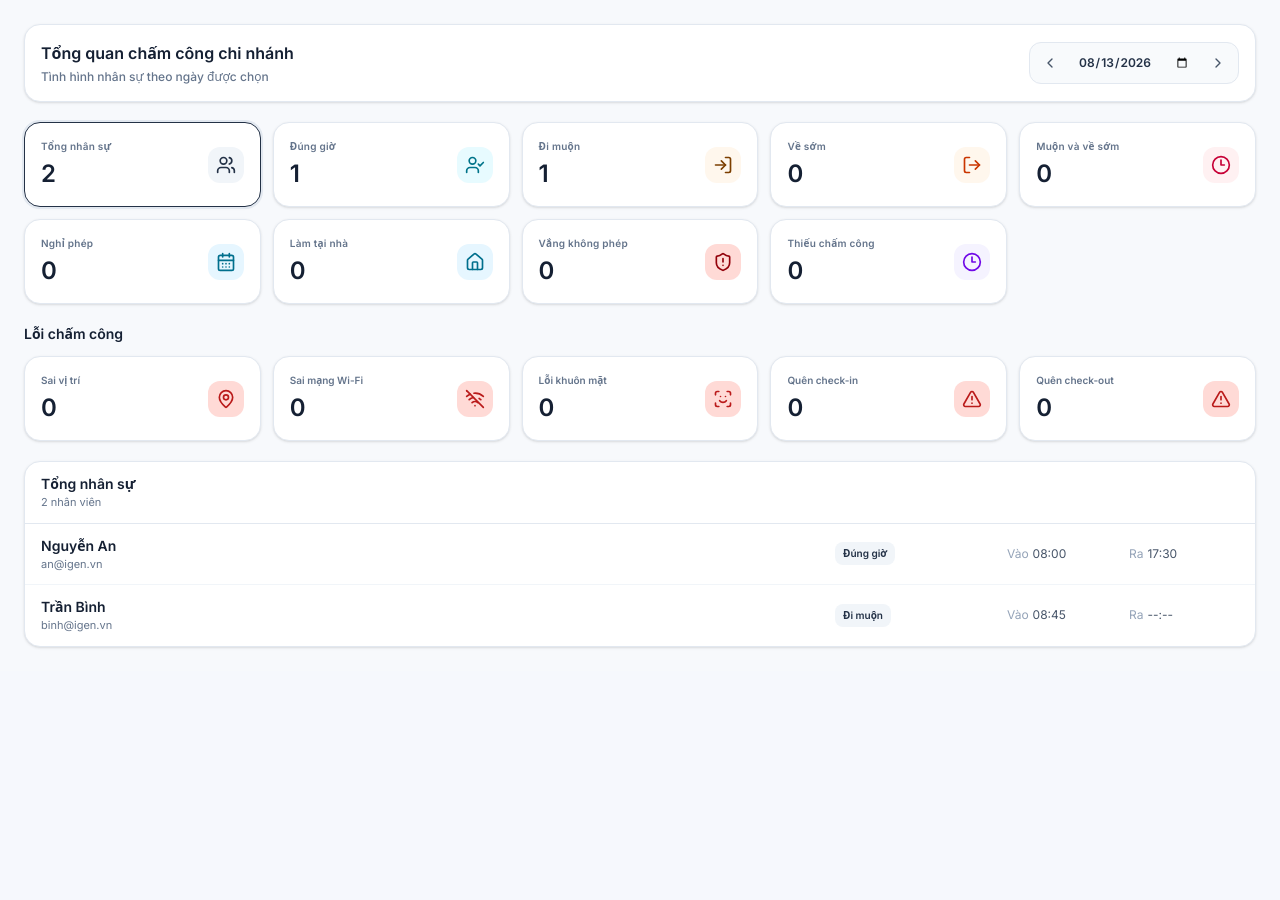
AttendanceDailyOverview › shows daily metrics and filters employees by clicking a metric
Expected: the date field named "Ngày tổng quan" holds "2026-08-13", [1070,51,1198,75]
Expected: the text "Nguyễn An" is shown, [41,536,116,554]
Click the button with aria-label "Đi muộn: 1" at (640, 164), box [522,122,758,207]
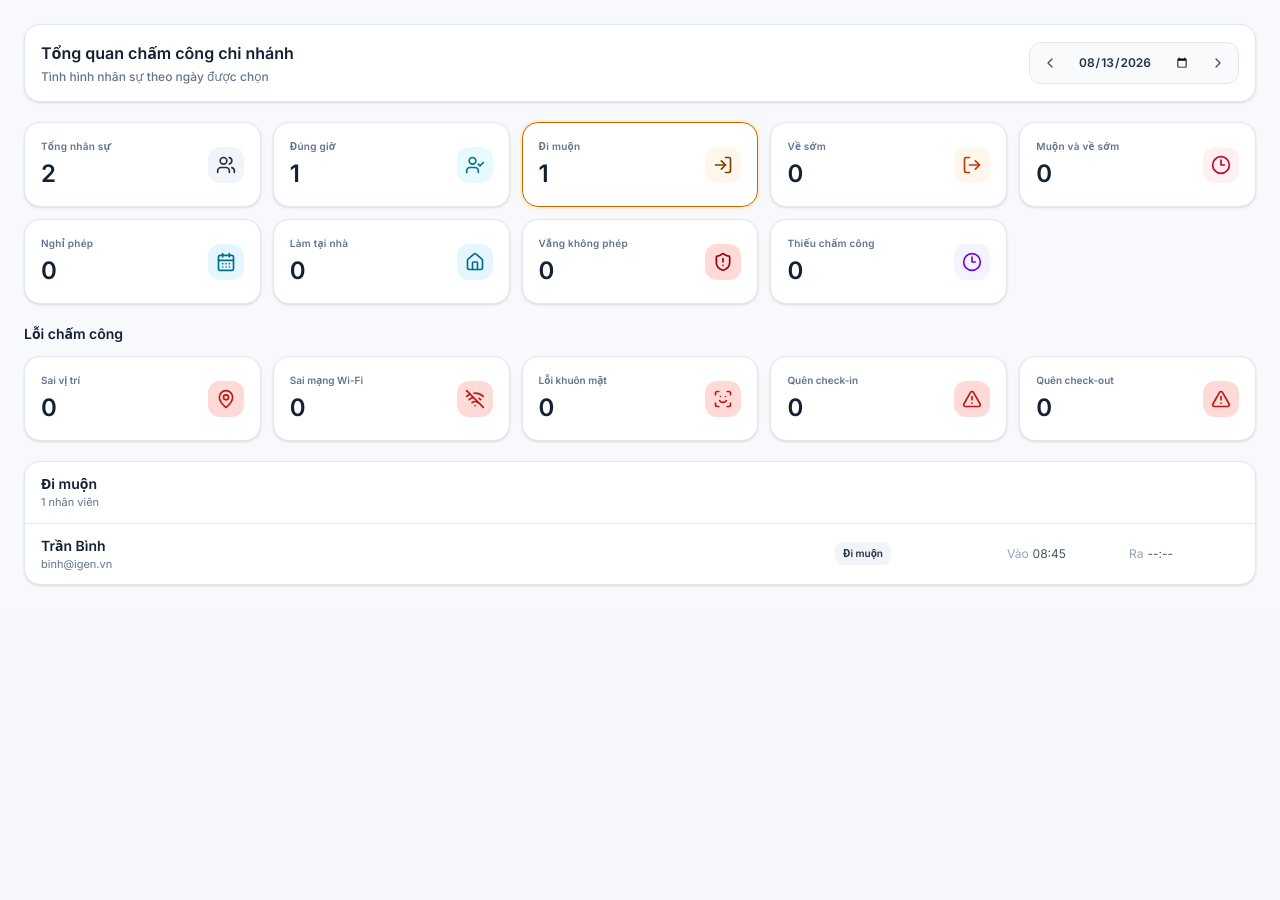
Expected: the text "Trần Bình" is shown, [41,536,106,554]
Result: the text "Nguyễn An" is gone
Click the button with aria-label "Đi muộn: 1" at (640, 164), box [522,122,758,207]
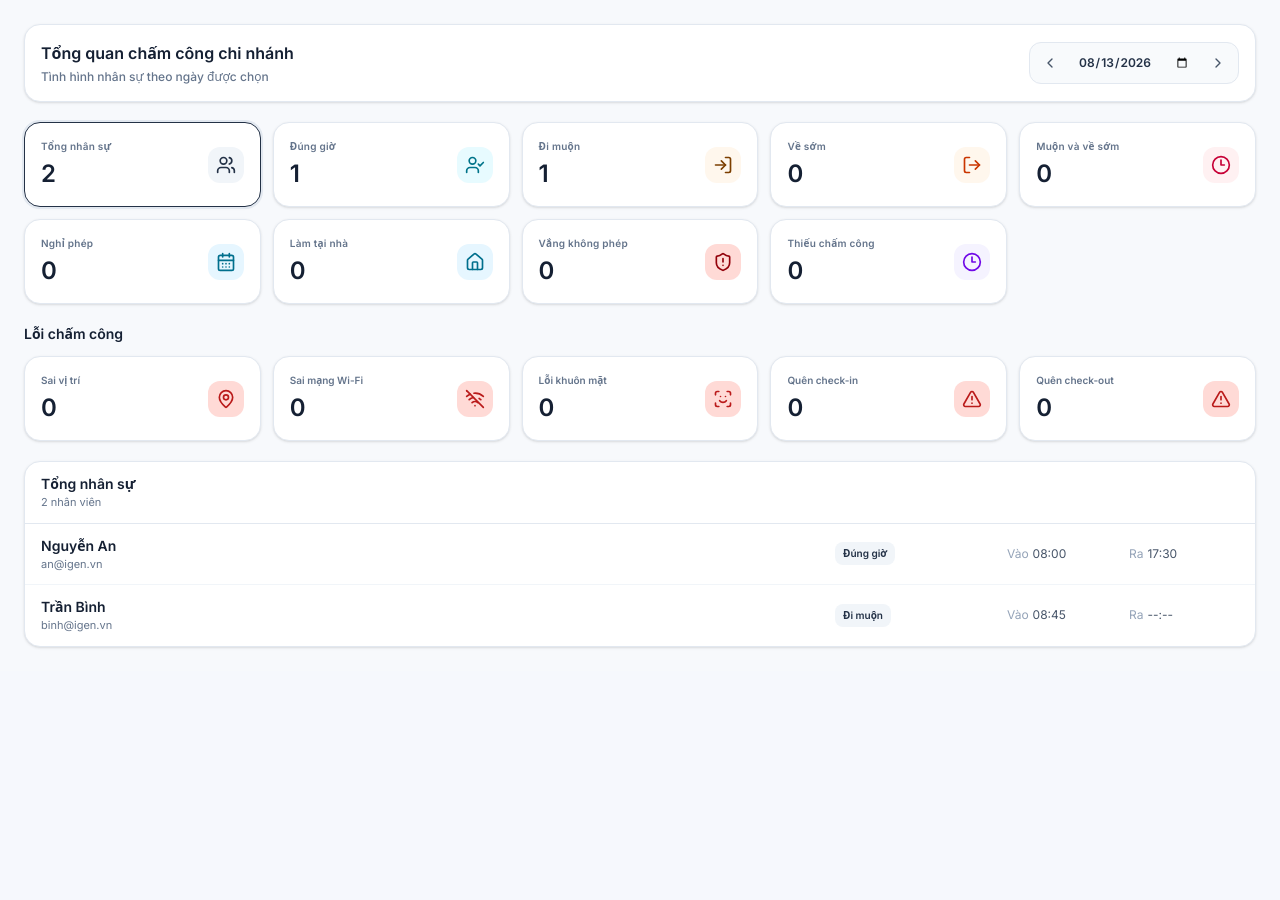
Result: the text "Nguyễn An" is shown at [41,536,116,554]
